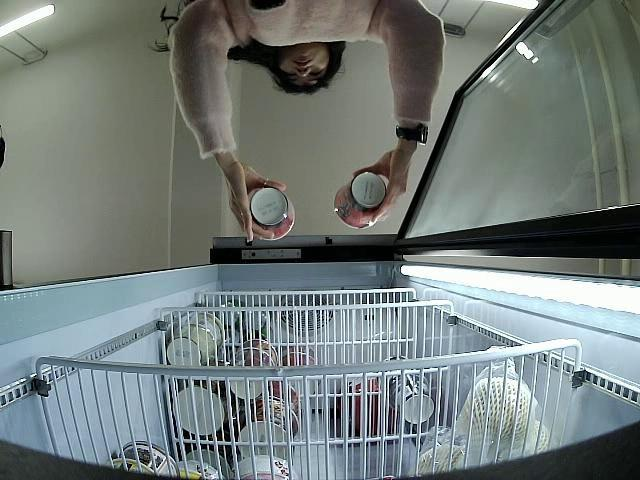02_shinRamen_S: (335, 173, 384, 228), (248, 189, 296, 244)
